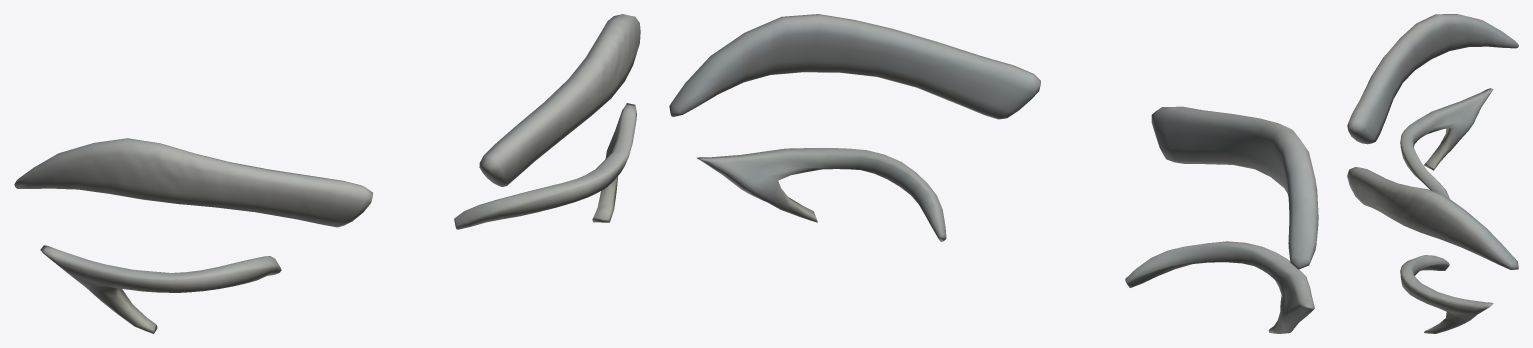
Rendered from eyebrows-female.glb.
3 renders of one model, left to right at view 1: azimuth 30°, elevation 25°; view 2: azimuth 150°, elevation 25°; view 3: azimuth 270°, elevation 25°, orthographic. The views are drawn at different scales.
Parts seen in each view (by area): view 1: Eyebrows_Female; view 2: Eyebrows_Female; view 3: Eyebrows_Female.
Boxes of the visible parts, box(x1,y1,x2,y2) form: Eyebrows_Female: box(14, 14, 640, 333); Eyebrows_Female: box(669, 14, 1318, 333); Eyebrows_Female: box(1347, 14, 1518, 333).
Bounding box in the file's own units: 0.126 × 0.0376 × 0.0403.
Materials: 1 (1 with a texture image).
